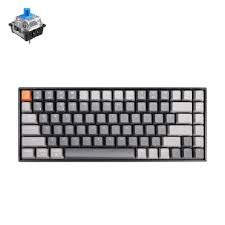keyboard: (14, 87, 209, 164)
